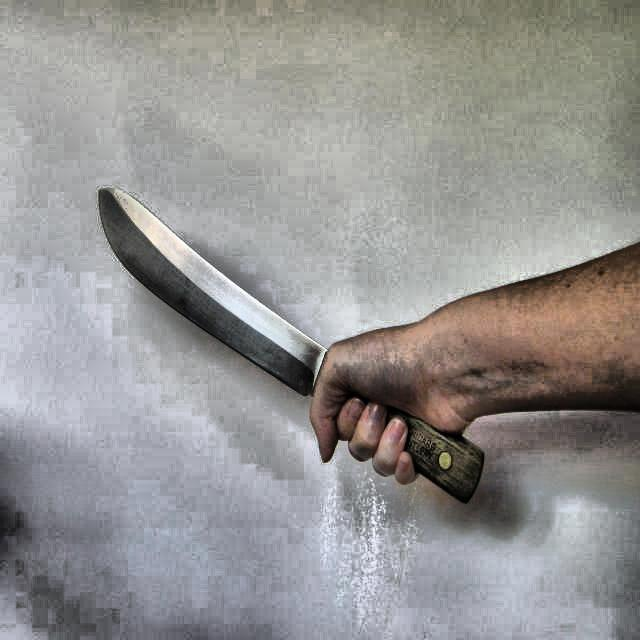knife: (100, 189, 484, 503)
